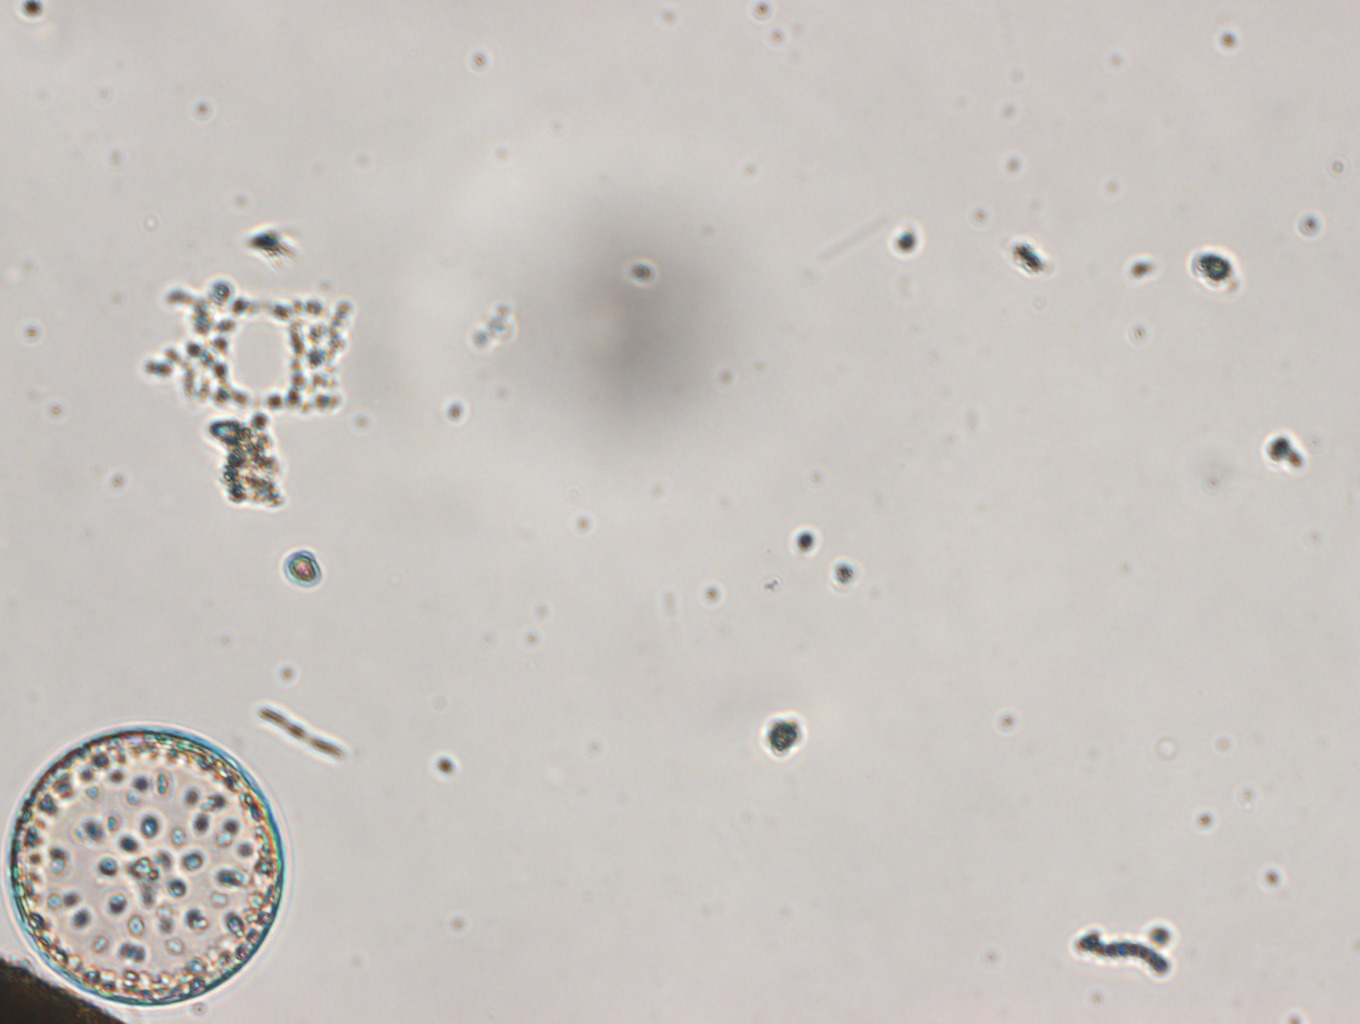coscinodiscus: (8, 725, 284, 1009)
